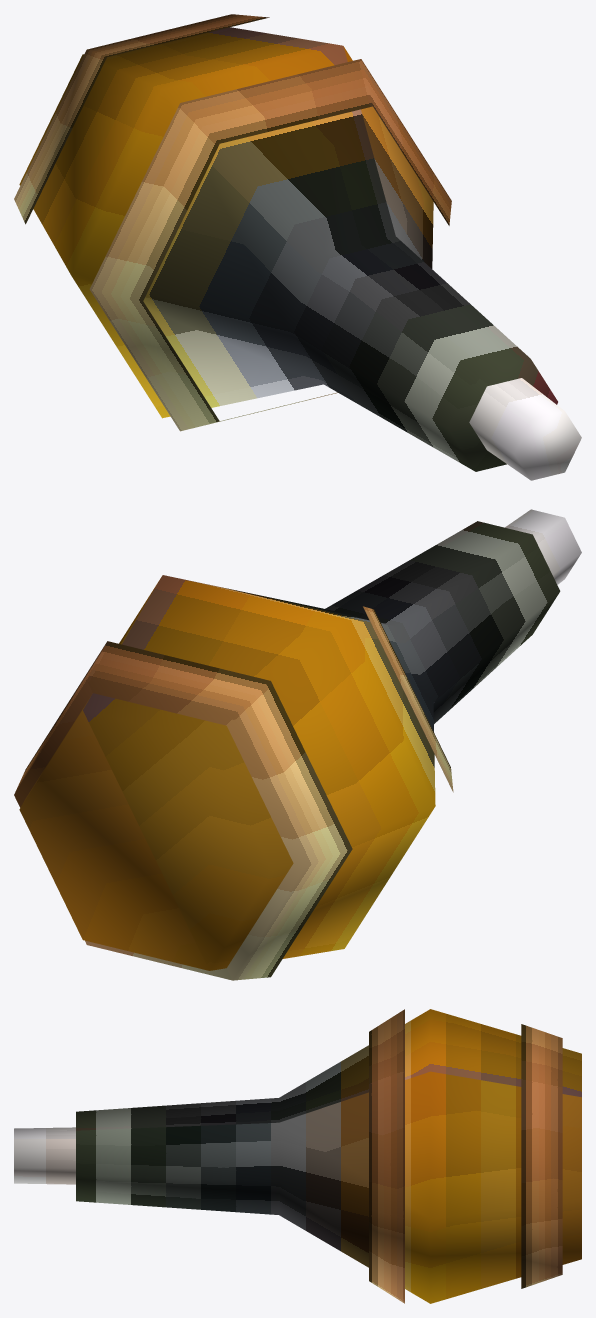
Rendered from sdwater02.glb.
3 renders of one model, top to bottom at view 1: azimuth 30°, elevation 25°; view 2: azimuth 150°, elevation 25°; view 3: azimuth 270°, elevation 25°, orthographic. The views are drawn at different scales.
Parts seen in each view (by area): view 1: model_sdwater02; view 2: model_sdwater02; view 3: model_sdwater02.
Part boxes in pixels (x1,y1,x2,y2): model_sdwater02: (14,14,581,480); model_sdwater02: (14,509,581,980); model_sdwater02: (14,1009,581,1303).
Size of the model in its own units: 0.2261 by 0.1958 by 0.4338.
2 materials, 2 textured.
